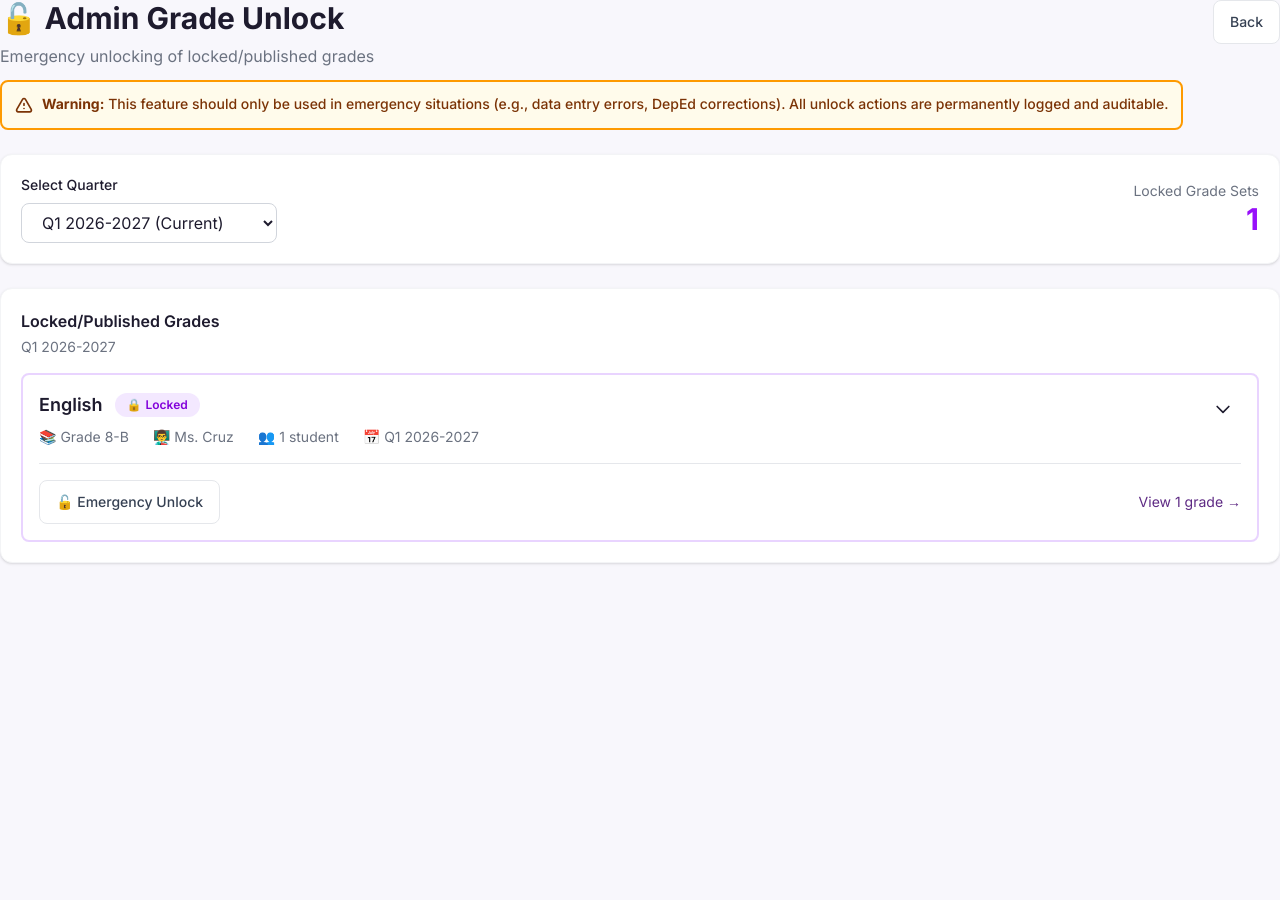
it: AdminUnlockGrades Unlock Modal › closes unlock modal when cancel is clicked
This screenshot has width=1280, height=900.
Expected: the heading "English" is shown, [39,391,102,419]
Click the button "🔓 Emergency Unlock".
click(130, 502)  # box [39,480,220,524]
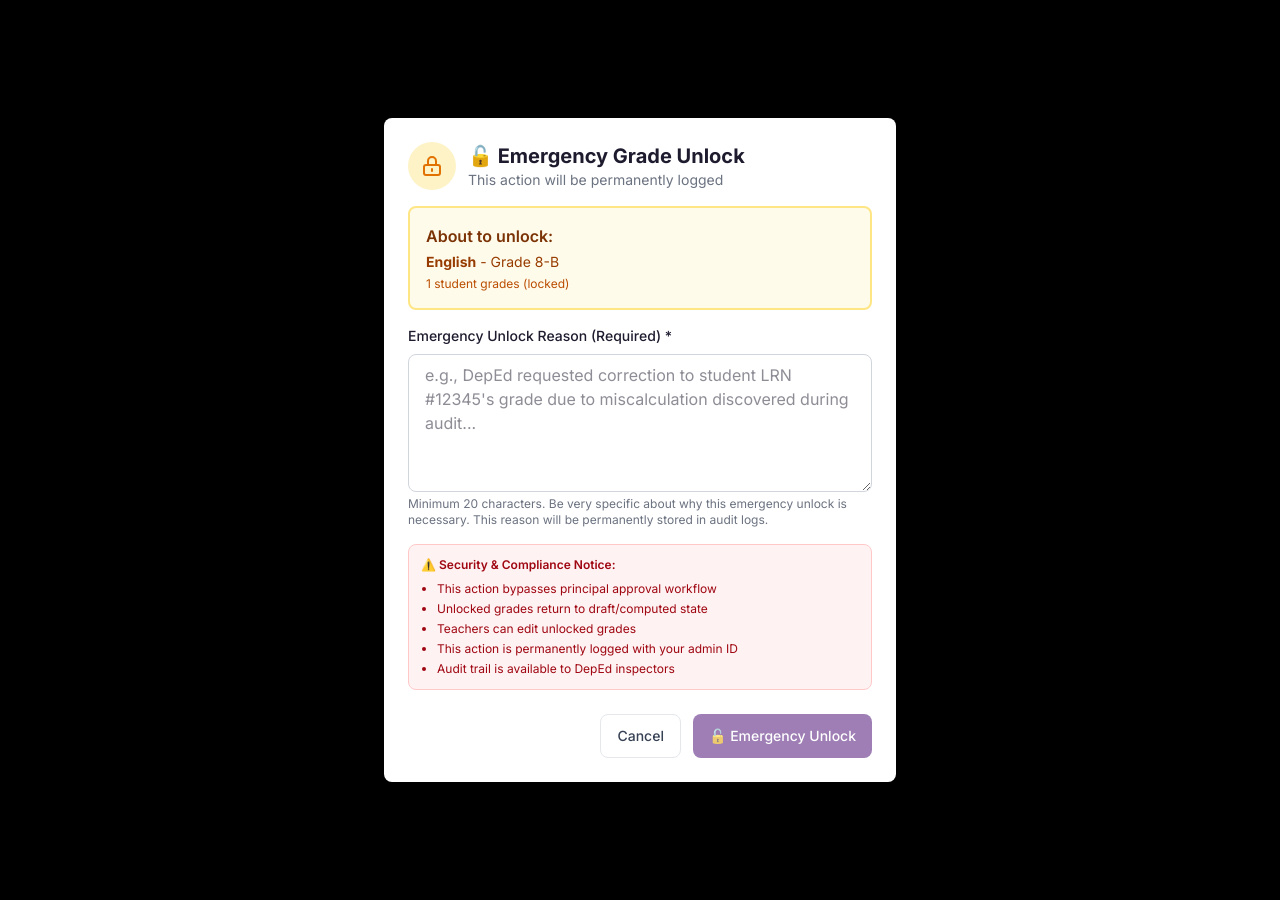
Result: the heading "🔓 Emergency Grade Unlock" is shown at [468,142,745,170]
Click the button "Cancel".
click(641, 736)  # box [600,714,681,758]
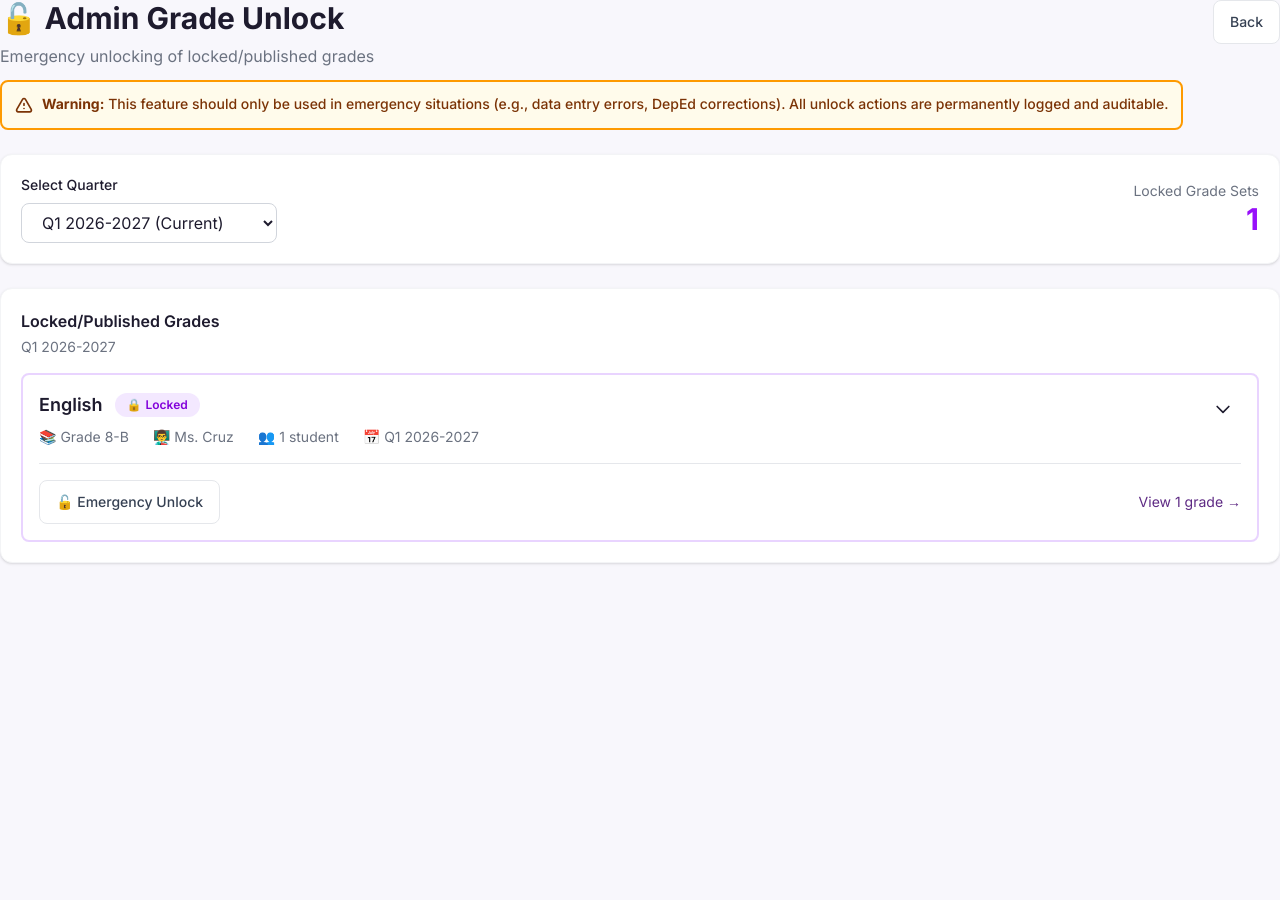
Result: the heading "Emergency Grade Unlock" is gone
